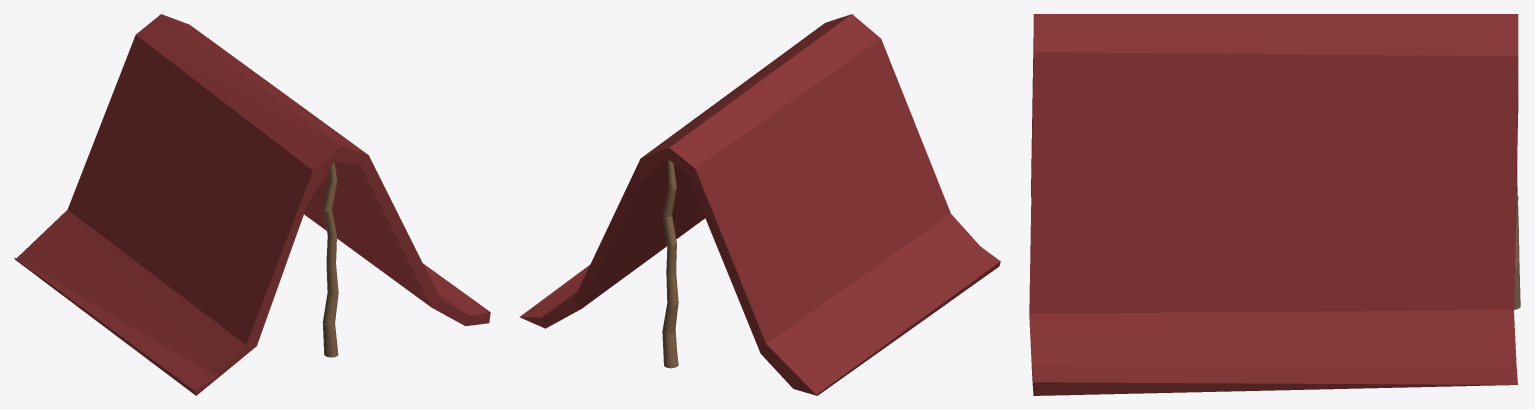
File: tent_red.fbx
3 views of the same model, side by side, from view 1: azimuth 30°, elevation 25°; view 2: azimuth 150°, elevation 25°; view 3: azimuth 270°, elevation 25° (orthographic). The views are drawn at different scales.
Parts seen in each view (by area): view 1: tent_red; view 2: tent_red; view 3: tent_red.
Part boxes in pixels (x1,y1,x2,y2): tent_red: (14, 14, 490, 395); tent_red: (519, 14, 1000, 395); tent_red: (1029, 14, 1520, 395).
Size of the model in its own units: 647 by 454 by 694.
